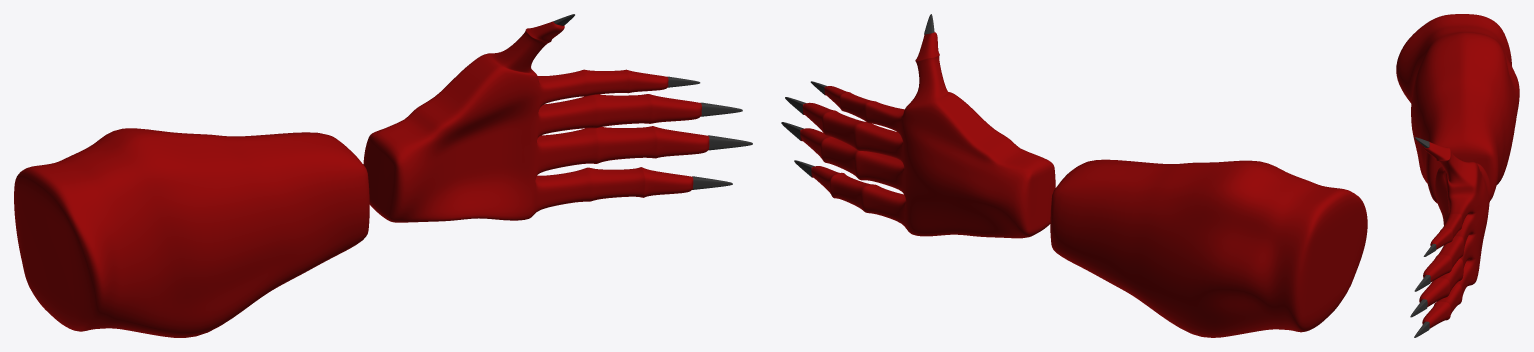
Rendered from Brazo2.fbx.
3 renders of one model, left to right at view 1: azimuth 30°, elevation 25°; view 2: azimuth 150°, elevation 25°; view 3: azimuth 270°, elevation 25°, orthographic. The views are drawn at different scales.
Visible parts, largest first — view 1: Antebrazo_Izq; view 2: Antebrazo_Izq; view 3: Antebrazo_Izq.
Boxes of the visible parts, x1,y1,x2,y2 form: Antebrazo_Izq: (14, 14, 752, 337); Antebrazo_Izq: (781, 14, 1367, 337); Antebrazo_Izq: (1396, 14, 1519, 337).
Size of the model in its own units: 1875 by 666 by 423.
